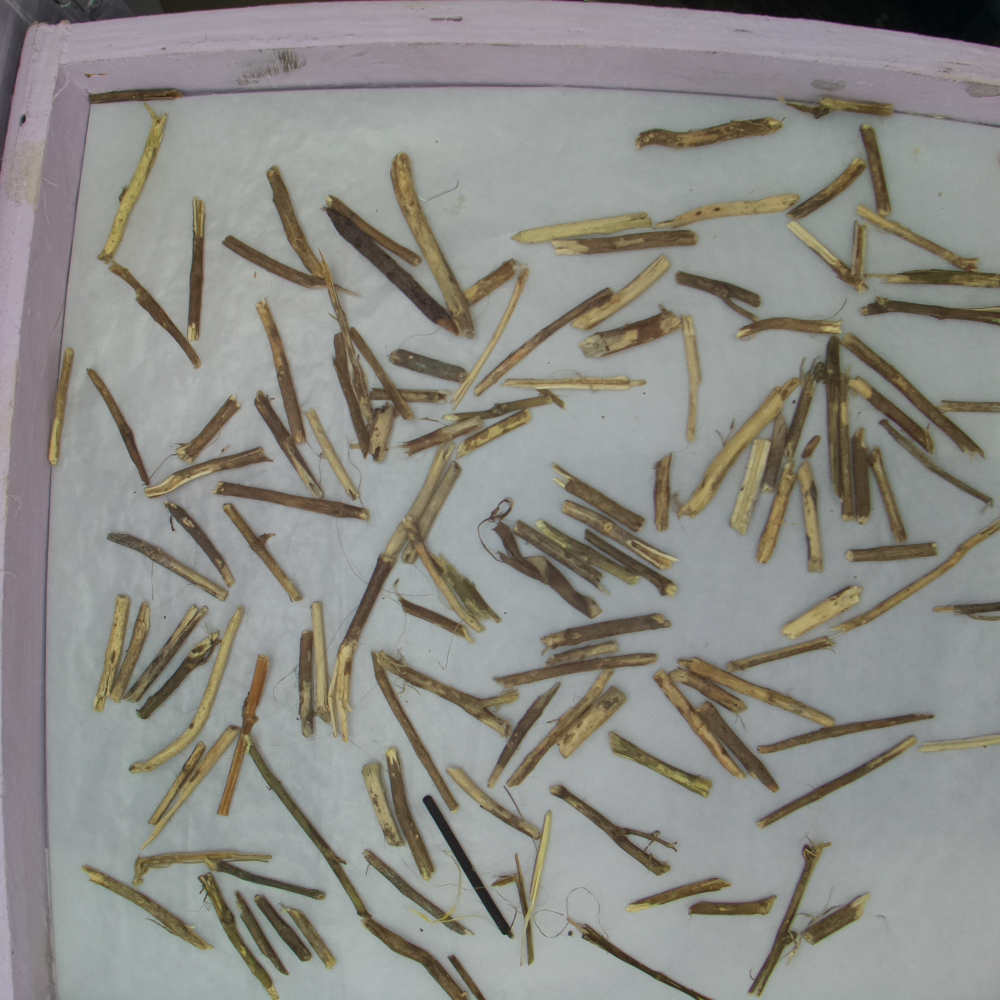kadi: (246, 736, 370, 917), (389, 147, 476, 344), (676, 381, 802, 514), (369, 650, 461, 811), (423, 794, 515, 938), (82, 866, 210, 958), (756, 740, 894, 825), (141, 730, 239, 848), (109, 257, 210, 371), (552, 783, 677, 875), (576, 921, 717, 1000), (751, 833, 815, 1000), (359, 848, 473, 937), (380, 656, 508, 735), (880, 417, 992, 507), (493, 518, 594, 616), (215, 650, 272, 818), (198, 872, 277, 993), (101, 106, 164, 256), (104, 526, 225, 604), (224, 503, 311, 606), (120, 604, 210, 702), (604, 726, 709, 809), (653, 672, 738, 774), (361, 916, 465, 999), (480, 680, 562, 784), (257, 168, 325, 280), (216, 469, 369, 518), (514, 515, 611, 590), (89, 370, 155, 478), (565, 502, 674, 567), (138, 633, 222, 716), (536, 520, 639, 586), (385, 743, 436, 876), (327, 194, 421, 265), (449, 766, 539, 840), (255, 393, 322, 490), (322, 275, 371, 406), (259, 300, 304, 441), (194, 607, 248, 724), (587, 528, 679, 596), (870, 214, 978, 271), (353, 330, 417, 425), (557, 460, 642, 531), (223, 239, 322, 299), (167, 499, 233, 588), (705, 710, 778, 790), (43, 347, 85, 485), (665, 187, 799, 230), (849, 378, 930, 449), (630, 860, 747, 909), (757, 716, 902, 754), (512, 200, 652, 239), (580, 308, 681, 362), (154, 444, 267, 492), (89, 589, 130, 718), (539, 611, 673, 649), (184, 197, 217, 349), (789, 159, 865, 225), (307, 407, 361, 497), (173, 396, 241, 467), (636, 115, 791, 146), (144, 749, 205, 826), (558, 686, 625, 755), (867, 439, 911, 541), (773, 586, 865, 634), (754, 470, 797, 570), (857, 298, 1000, 328), (675, 269, 765, 316), (132, 844, 280, 872), (559, 231, 696, 261), (804, 884, 870, 946), (238, 892, 287, 973), (254, 894, 311, 963), (525, 808, 555, 938), (729, 633, 834, 670), (732, 429, 769, 534), (460, 411, 533, 461), (359, 759, 401, 845), (858, 127, 896, 214), (462, 254, 522, 309), (286, 903, 336, 968), (401, 596, 471, 642), (688, 891, 773, 925), (832, 597, 908, 635), (680, 320, 702, 450), (511, 857, 537, 962), (673, 671, 743, 709), (923, 729, 1000, 763), (309, 601, 330, 720), (334, 636, 357, 742), (880, 271, 1000, 291), (329, 330, 358, 412), (802, 467, 824, 575), (355, 400, 396, 457), (736, 318, 839, 340), (389, 352, 468, 380), (844, 541, 939, 564), (501, 377, 644, 392), (447, 953, 489, 1000), (831, 91, 901, 118), (915, 597, 1000, 618), (299, 632, 316, 737), (651, 456, 673, 535), (784, 83, 828, 121), (939, 397, 1000, 414), (800, 432, 825, 458), (137, 777, 139, 779)
